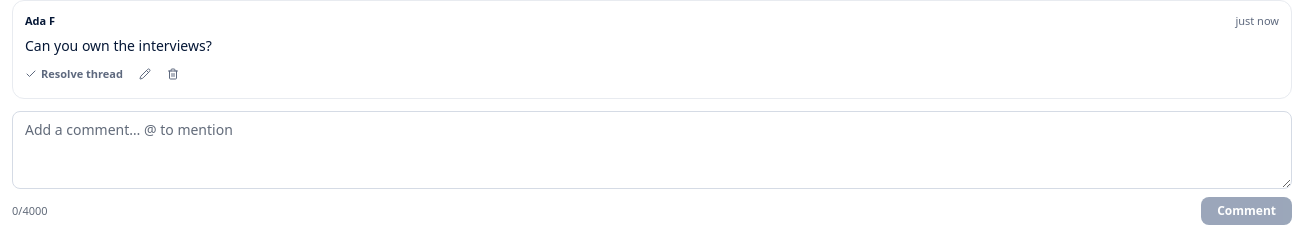
Scenario: CommentThread › toggles resolve through the API and shows the resolved state
The image size is (1304, 242).
Click the button "Resolve thread": (74, 74) 19,62 -> 129,86
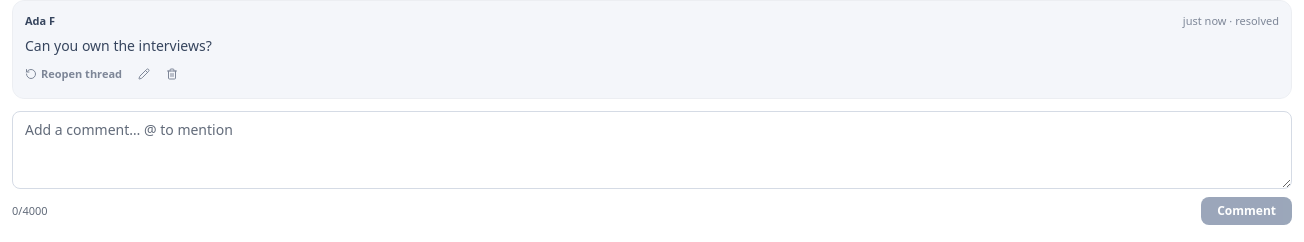
expect the button "Reopen thread" is shown: met, box 19,62 -> 128,86
